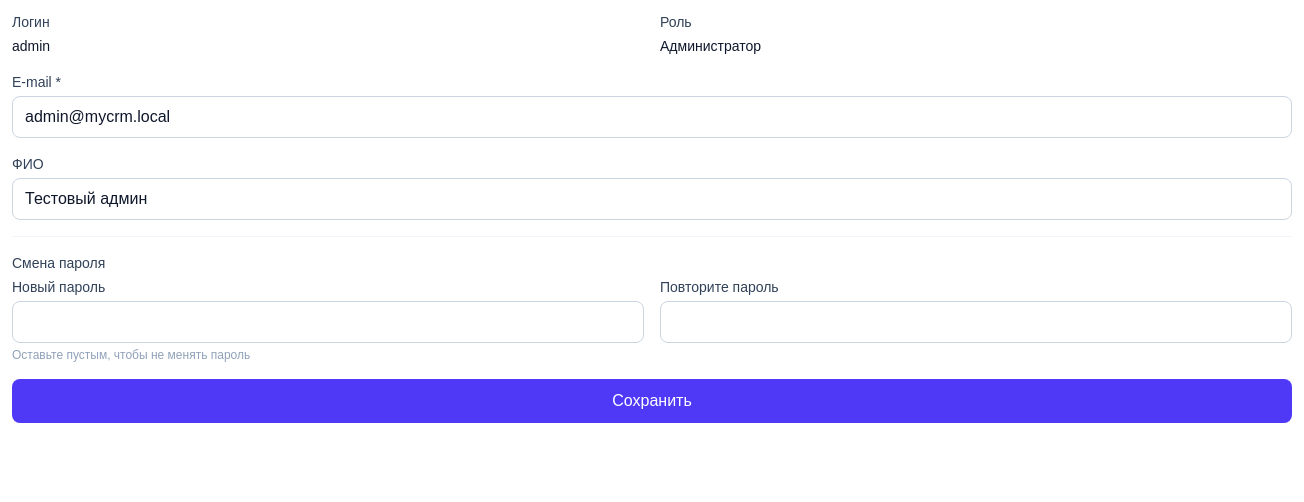
Test: ProfileForm (#41) › пароли не совпадают — ошибка без вызова API
Type "aaa111" into the password field labelled "Новый пароль" at [328, 322], box [12,301,644,343]
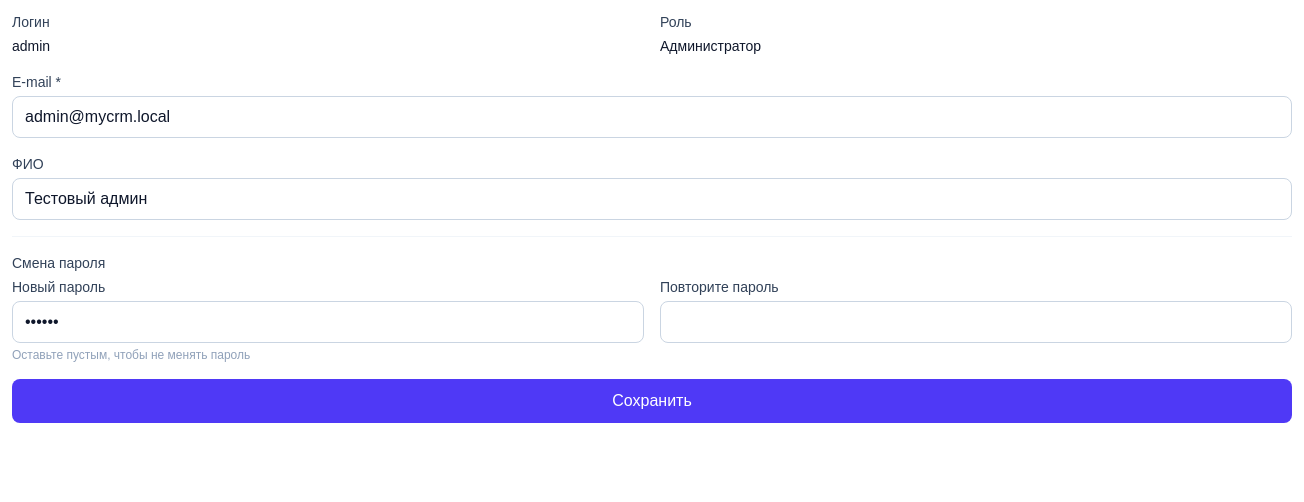
Type "bbb222" into the password field labelled "Повторите пароль" at [976, 322], box [660,301,1292,343]
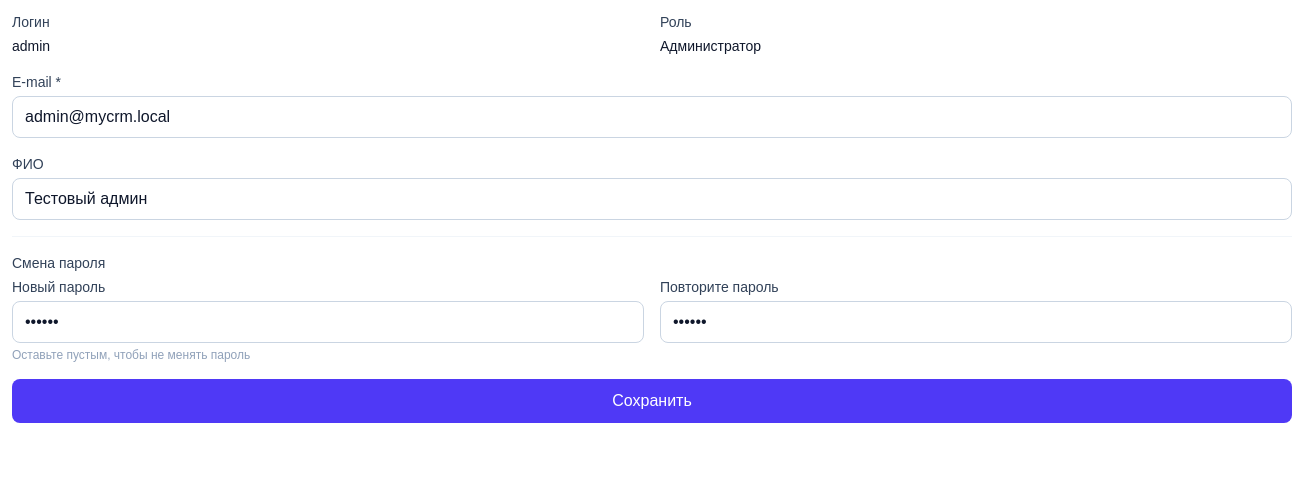
Click the button "Сохранить" at [652, 401], box [12,379,1292,423]
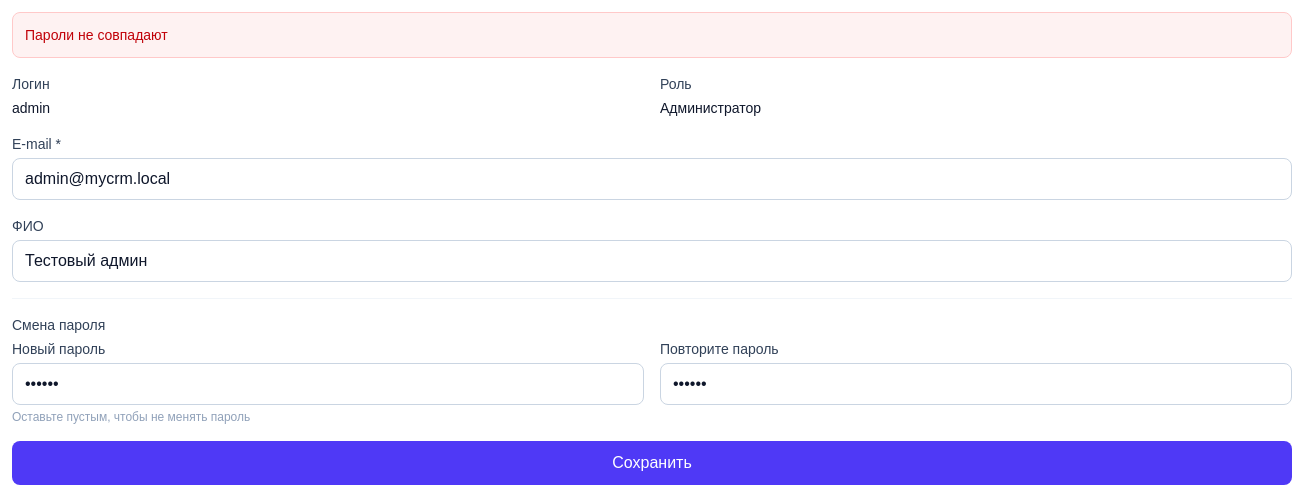
expect the text "Пароли не совпадают" is shown: met, box [12,12,1292,58]
